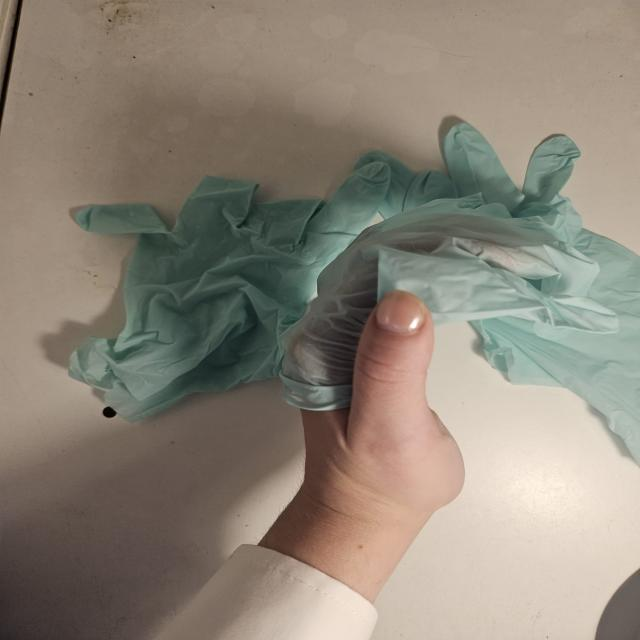glove_partial: (277, 191, 620, 508)
